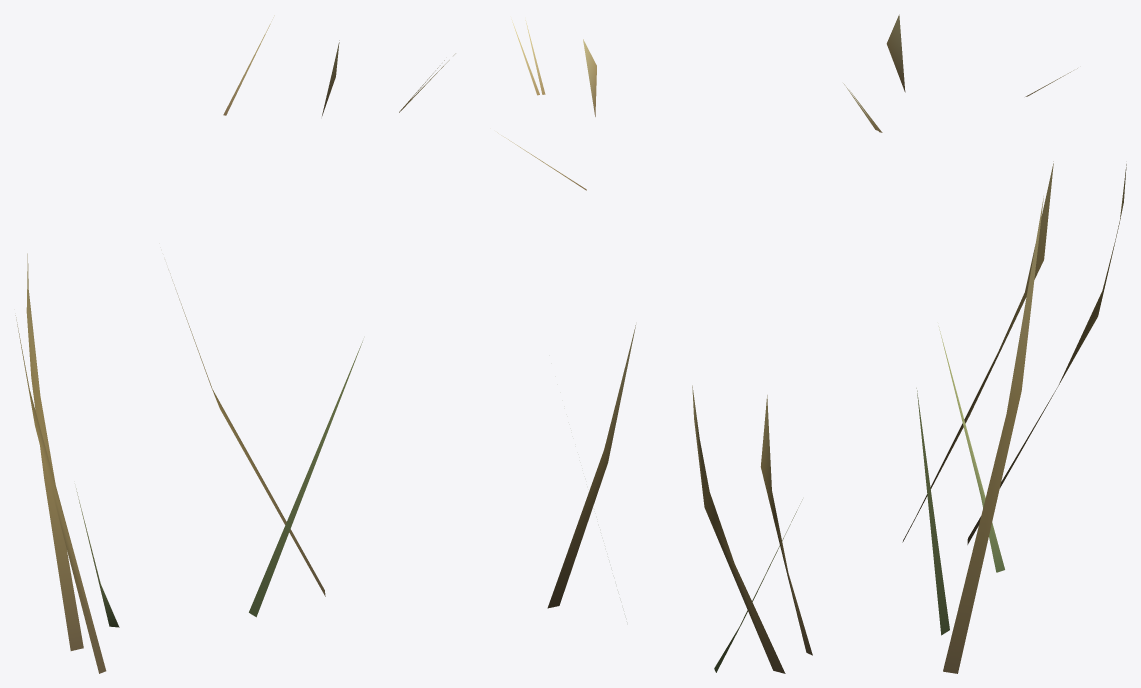
File: DryPrairieClump_LOD3.glb
The picture shows the model from 3 angles, left to right: view 1: azimuth 30°, elevation 25°; view 2: azimuth 150°, elevation 25°; view 3: azimuth 270°, elevation 25°; orthographic projection. The views are drawn at different scales.
Visible parts, largest first — view 1: DryPrairieClump_LOD3; view 2: DryPrairieClump_LOD3; view 3: DryPrairieClump_LOD3.
Boxes of the visible parts, x1,y1,x2,y2 form: DryPrairieClump_LOD3: (15,15,455,673); DryPrairieClump_LOD3: (497,19,812,673); DryPrairieClump_LOD3: (843,14,1126,673).
Size of the model in its own units: 0.2838 by 0.4397 by 0.1726.
